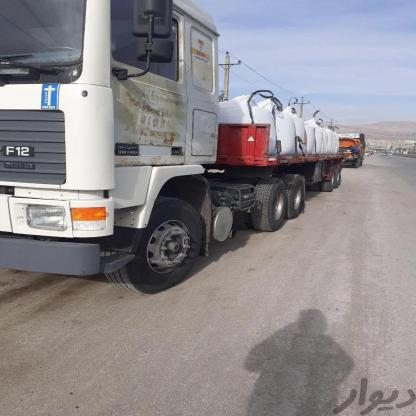Truck: (0, 0, 336, 293), (338, 128, 368, 169)
